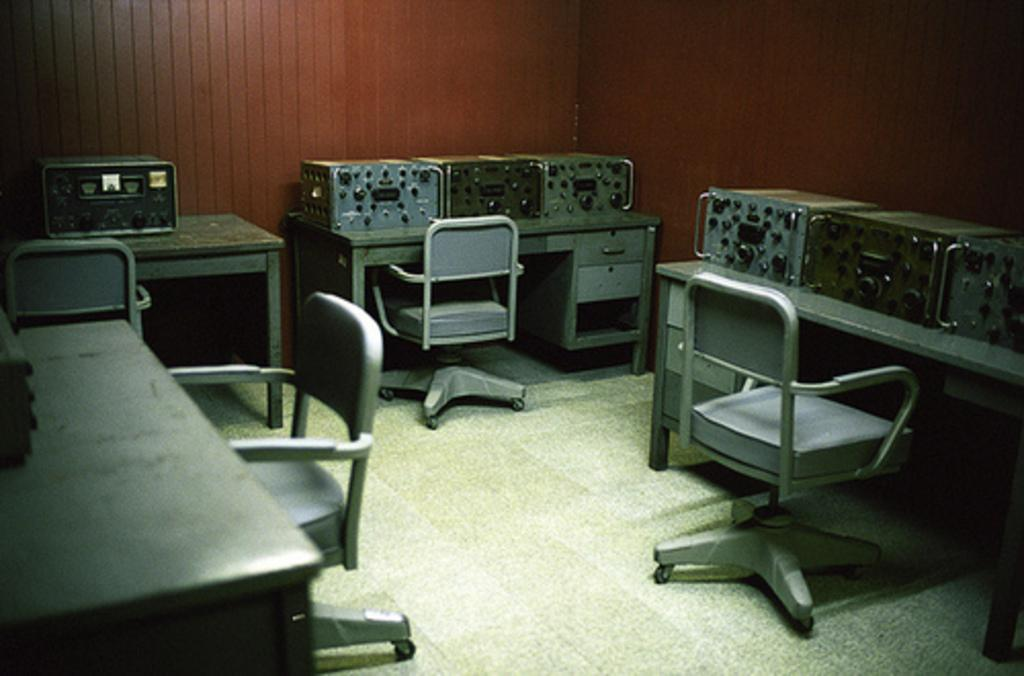Chair: (166, 290, 416, 666), (371, 214, 527, 429)
